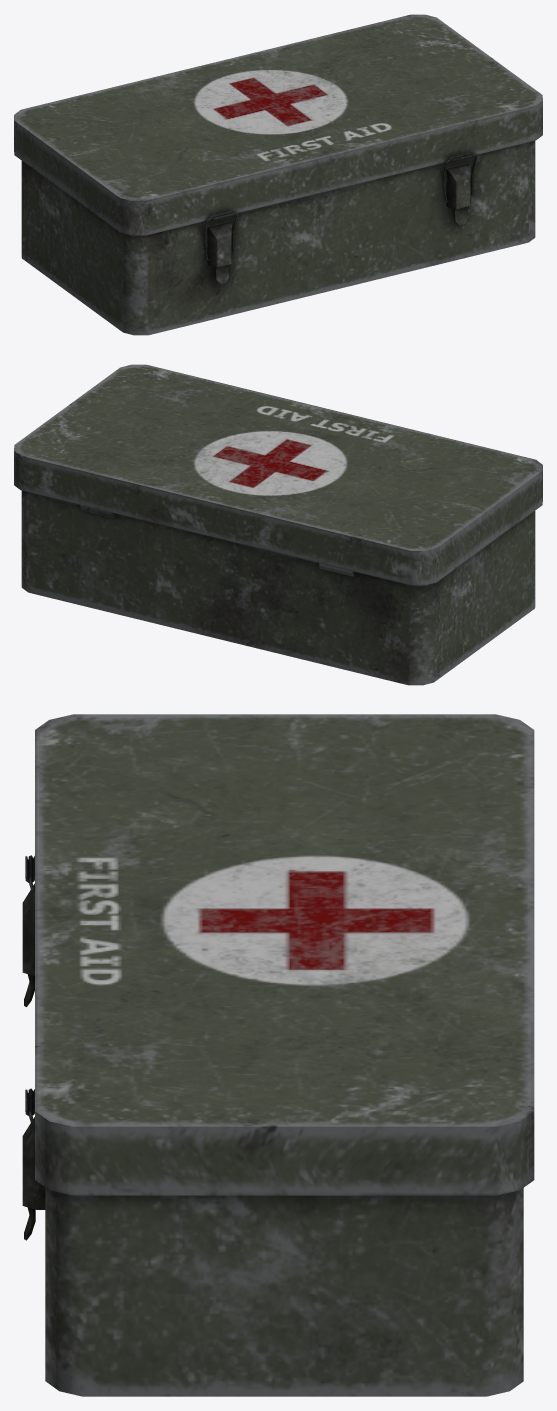
The model's file is Medical_Kit_02.fbx.
3 renders of one model, top to bottom at view 1: azimuth 30°, elevation 25°; view 2: azimuth 150°, elevation 25°; view 3: azimuth 270°, elevation 25°, orthographic. The views are drawn at different scales.
Parts seen in each view (by area): view 1: Medical_Box; view 2: Medical_Box; view 3: Medical_Box.
Boxes of the visible parts, left/top/right/bottom form: Medical_Box: left=14, top=14, right=542, bottom=335; Medical_Box: left=14, top=364, right=542, bottom=685; Medical_Box: left=22, top=714, right=534, bottom=1396.
Bounding box in the file's own units: 28 × 8.7 × 14.69.
1 material, 1 textured.
